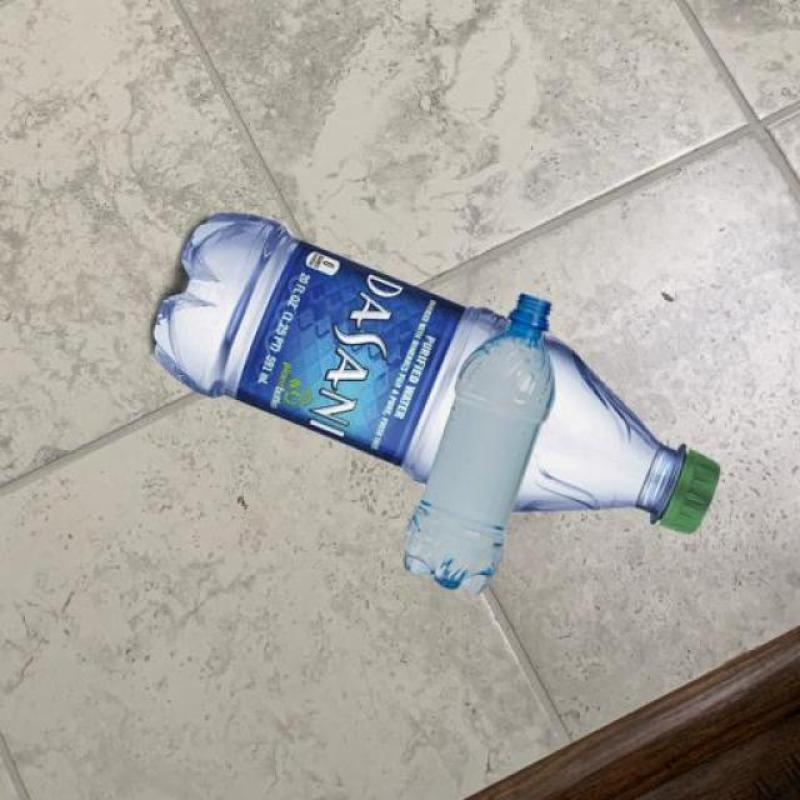botella: (149, 216, 720, 532), (400, 292, 556, 598)
